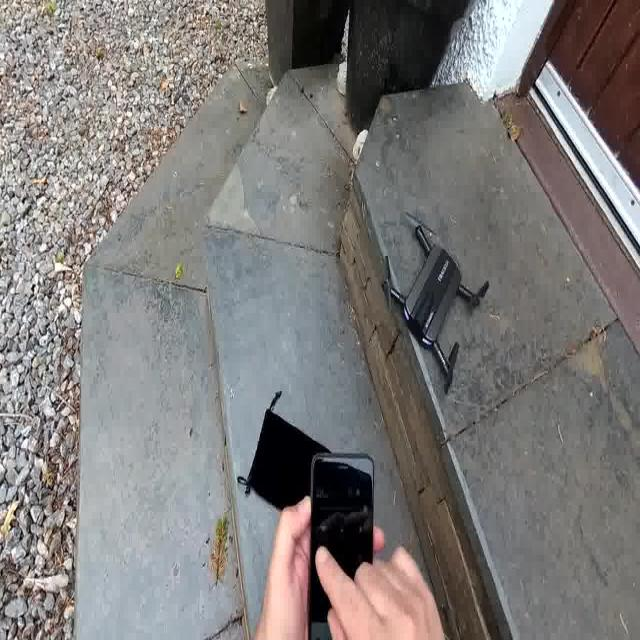Drone_FW: (378, 222, 492, 402)
